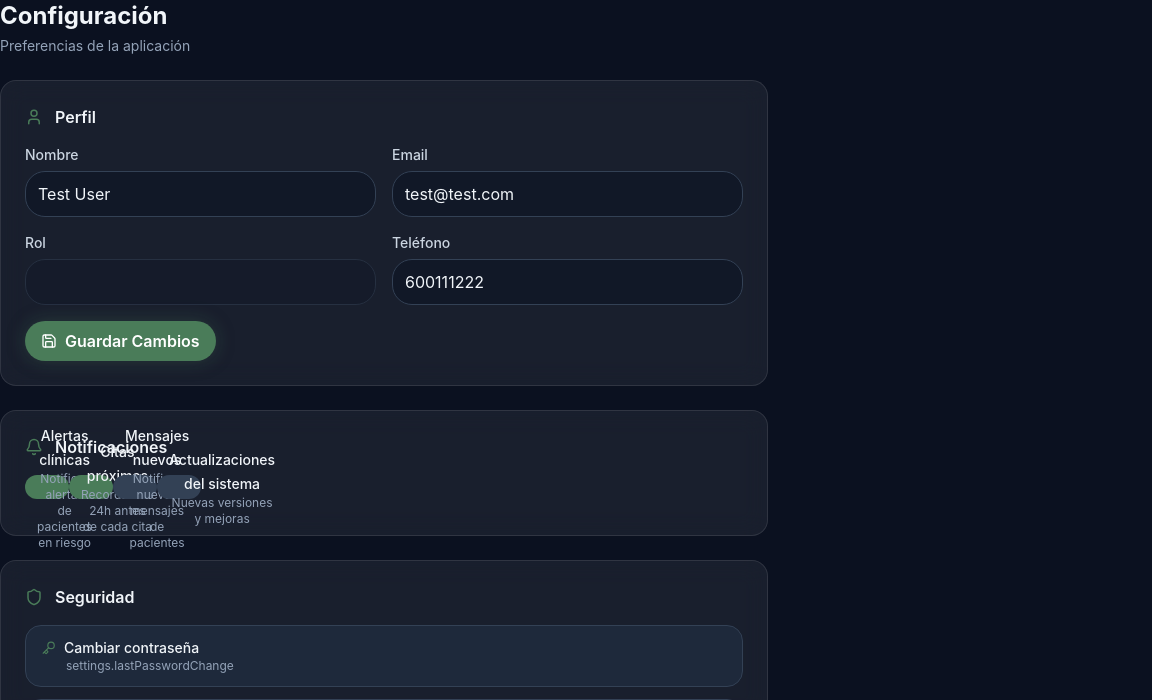
SettingsPage › opens password change dialog
Check: the field showing "Test User" is shown, box [25,171,376,217]
Click the button "Cambiar contraseña settings.lastPasswordChange".
click(132, 648)  # box [25,625,743,687]
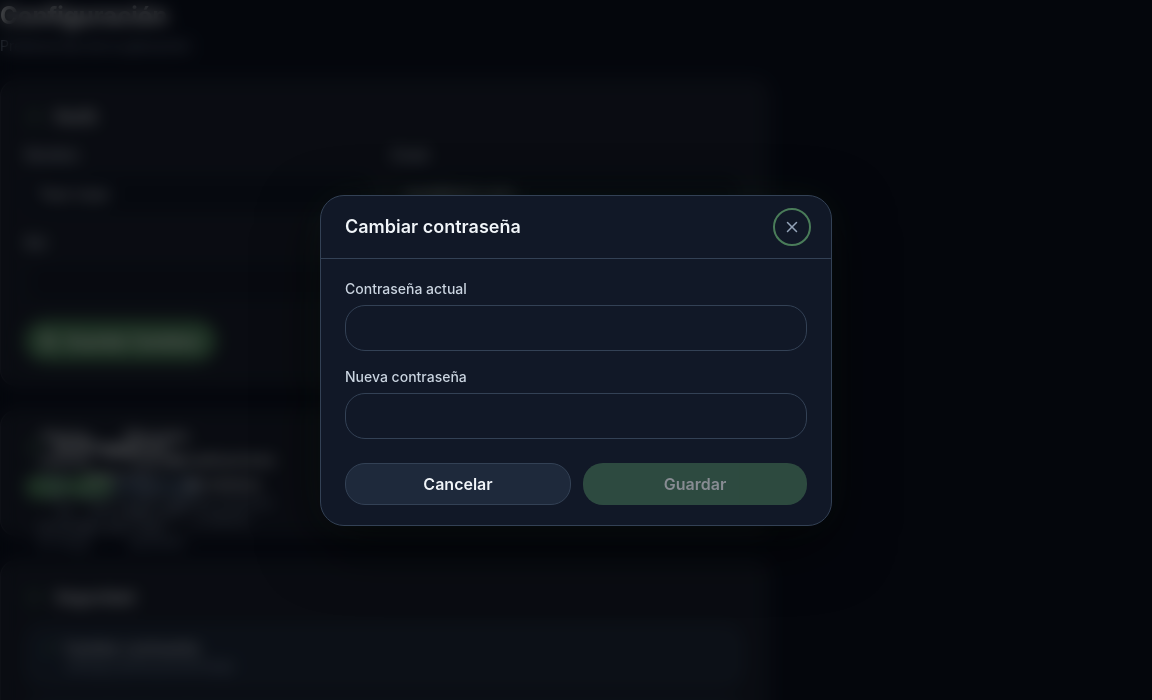
Check: the text "Contraseña actual" is shown, box [345,280,467,296]
